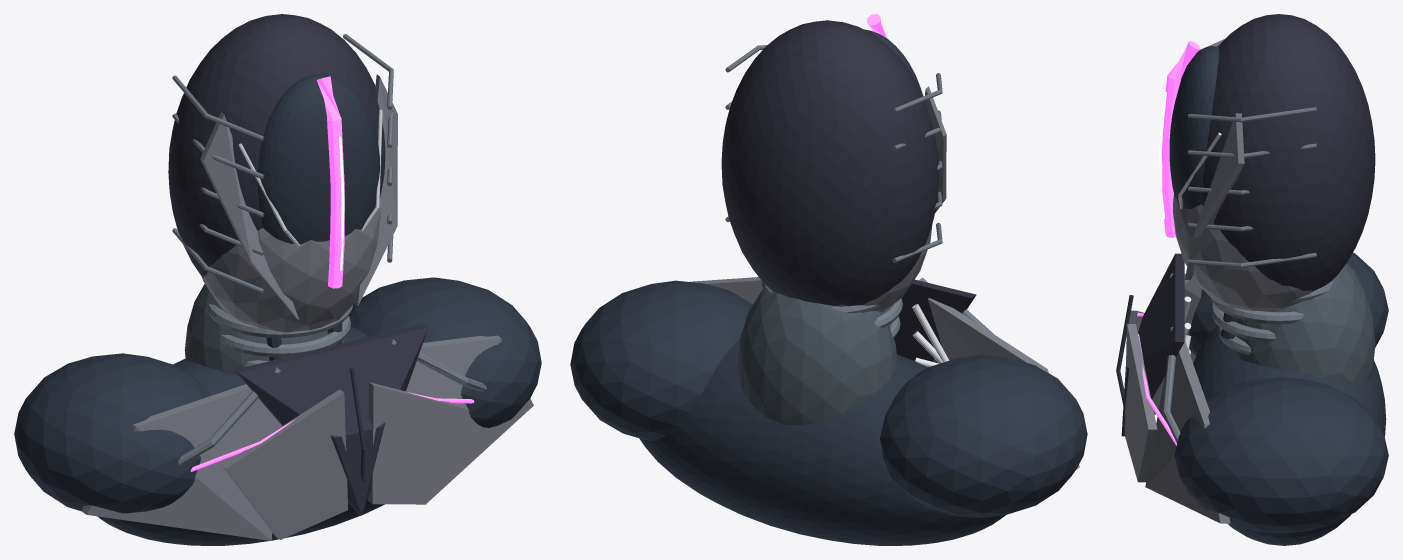
Rendered from null_entity.glb.
3 views of the same model, side by side, from view 1: azimuth 30°, elevation 25°; view 2: azimuth 150°, elevation 25°; view 3: azimuth 270°, elevation 25° (orthographic). The views are drawn at different scales.
Parts seen in each view (by area): view 1: TORSO_black, TORSO_chrome, HEAD_black_glass, HEAD_chrome, HEAD_black, TORSO_black_glass, TORSO_gunmetal, TORSO_dark_steel, HEAD_gunmetal, HEAD_violet, HEAD_polished_silver, TORSO_violet; view 2: TORSO_black, HEAD_black_glass, TORSO_dark_steel, TORSO_chrome, TORSO_black_glass, HEAD_chrome, HEAD_gunmetal, TORSO_gunmetal, TORSO_bright_steel; view 3: HEAD_black_glass, TORSO_black, TORSO_dark_steel, TORSO_chrome, HEAD_chrome, HEAD_black, TORSO_black_glass, TORSO_gunmetal, HEAD_gunmetal, HEAD_violet, TORSO_violet, HEAD_white.
Boxes of the visible parts, <box> form: TORSO_black: <box>14,277,541,545</box>; TORSO_chrome: <box>81,335,533,540</box>; HEAD_black_glass: <box>168,14,385,277</box>; HEAD_chrome: <box>200,74,397,338</box>; HEAD_black: <box>257,74,379,243</box>; TORSO_black_glass: <box>234,323,428,515</box>; TORSO_gunmetal: <box>178,303,486,465</box>; TORSO_dark_steel: <box>184,284,347,375</box>; HEAD_gunmetal: <box>172,34,393,293</box>; HEAD_violet: <box>317,76,344,288</box>; HEAD_polished_silver: <box>238,109,382,246</box>; TORSO_violet: <box>190,392,474,471</box>; TORSO_black: <box>570,280,1087,545</box>; HEAD_black_glass: <box>721,20,938,306</box>; TORSO_dark_steel: <box>737,289,897,425</box>; TORSO_chrome: <box>690,277,1079,469</box>; TORSO_black_glass: <box>894,279,976,361</box>; HEAD_chrome: <box>767,86,946,312</box>; HEAD_gunmetal: <box>725,45,942,262</box>; TORSO_gunmetal: <box>762,282,994,337</box>; TORSO_bright_steel: <box>912,304,949,367</box>; HEAD_black_glass: <box>1201,14,1375,291</box>; TORSO_black: <box>1116,252,1388,545</box>; TORSO_dark_steel: <box>1233,263,1375,383</box>; TORSO_chrome: <box>1124,273,1230,523</box>; HEAD_chrome: <box>1173,113,1330,311</box>; HEAD_black: <box>1169,46,1218,208</box>; TORSO_black_glass: <box>1121,253,1237,436</box>; TORSO_gunmetal: <box>1162,273,1333,443</box>; HEAD_gunmetal: <box>1188,39,1316,267</box>; HEAD_violet: <box>1161,41,1200,237</box>; TORSO_violet: <box>1137,312,1176,445</box>; HEAD_white: <box>1158,91,1166,218</box>.
Bounding box in the file's own units: 2.04 × 2 × 1.02.
